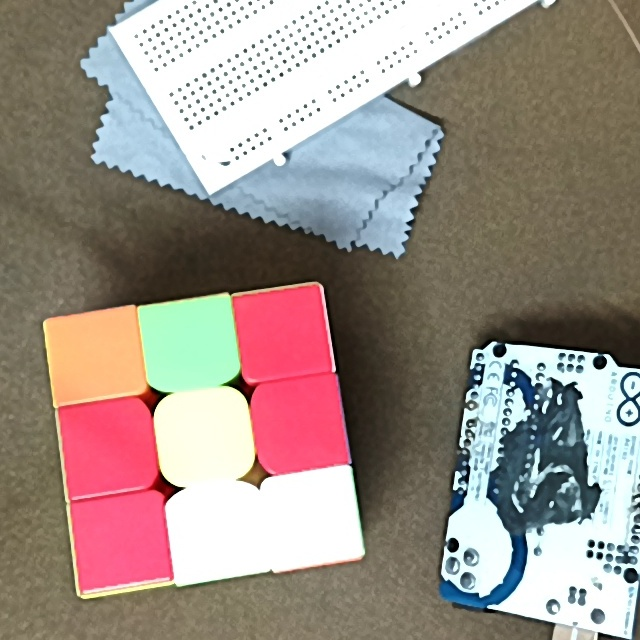tile: (68, 409, 143, 486), (242, 296, 322, 368), (183, 495, 255, 574), (84, 504, 157, 579), (263, 388, 337, 461), (150, 309, 227, 379), (167, 399, 242, 469), (280, 483, 350, 557), (57, 323, 133, 391)
